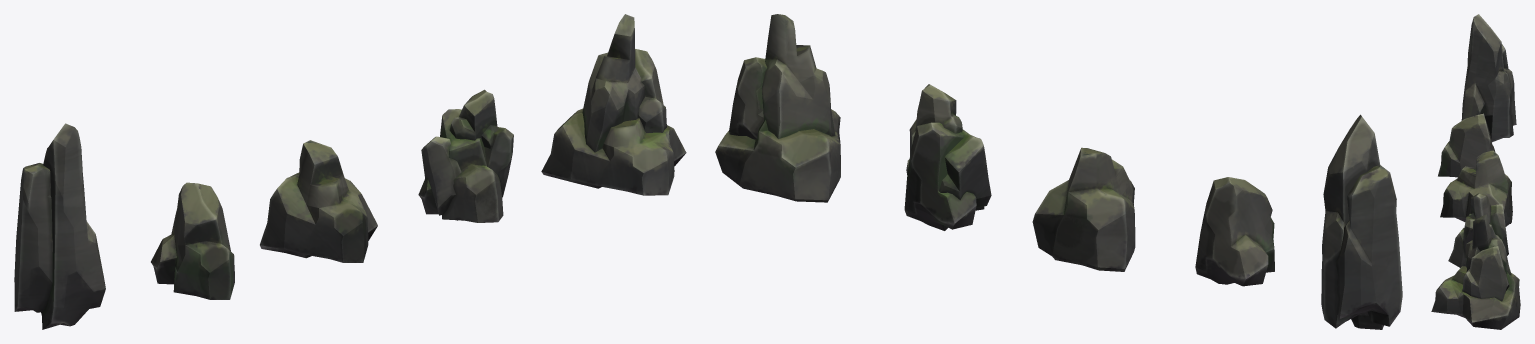
The model's file is Rocks_B.glb.
3 renders of one model, left to right at view 1: azimuth 30°, elevation 25°; view 2: azimuth 150°, elevation 25°; view 3: azimuth 270°, elevation 25°, orthographic. The views are drawn at different scales.
Visible parts, largest first — view 1: Rock_5, Rock_4, Rock_2, Rock_3, Rock_1; view 2: Rock_5, Rock_4, Rock_2, Rock_3, Rock_1; view 3: Rock_5, Rock_4, Rock_2, Rock_1, Rock_3.
Boxes of the visible parts, box(x1,y1,x2,y2) form: Rock_5: box(541, 14, 686, 195); Rock_4: box(14, 123, 105, 329); Rock_2: box(260, 140, 377, 262); Rock_3: box(418, 89, 513, 222); Rock_1: box(151, 182, 234, 299); Rock_5: box(715, 14, 840, 202); Rock_4: box(1321, 114, 1402, 329); Rock_2: box(1032, 147, 1135, 271); Rock_3: box(904, 84, 991, 230); Rock_1: box(1195, 177, 1274, 286); Rock_5: box(1431, 214, 1520, 329); Rock_4: box(1461, 14, 1516, 142); Rock_2: box(1440, 150, 1512, 226); Rock_1: box(1438, 113, 1495, 177); Rock_3: box(1448, 193, 1508, 267).
Size of the model in its own units: 7.28 by 2.15 by 1.32.
1 material, 1 textured.
